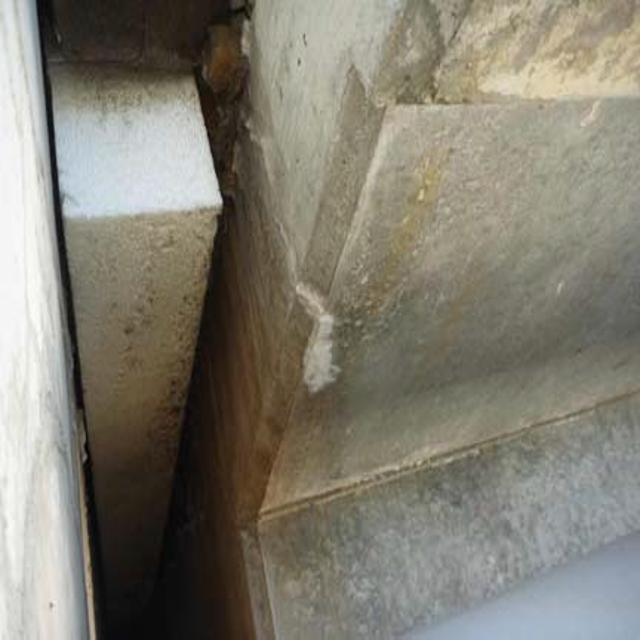freelime: (287, 284, 349, 412)
